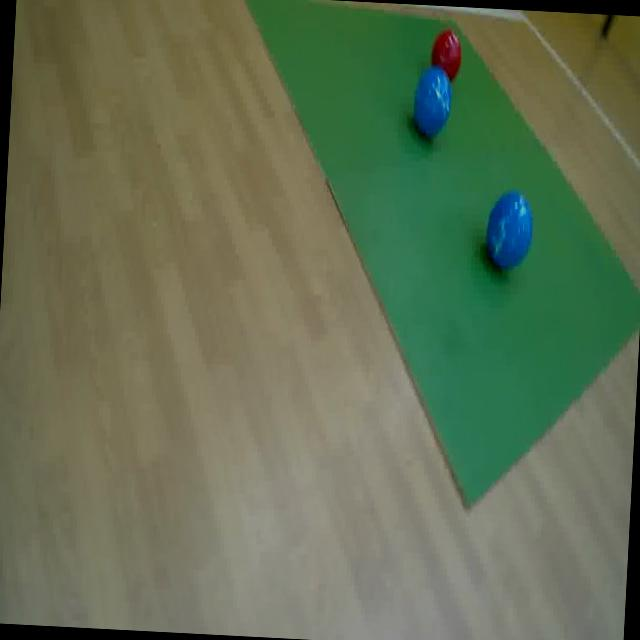blue_ball: (483, 185, 538, 278), (411, 64, 454, 142)
red_ball: (426, 26, 466, 88)
